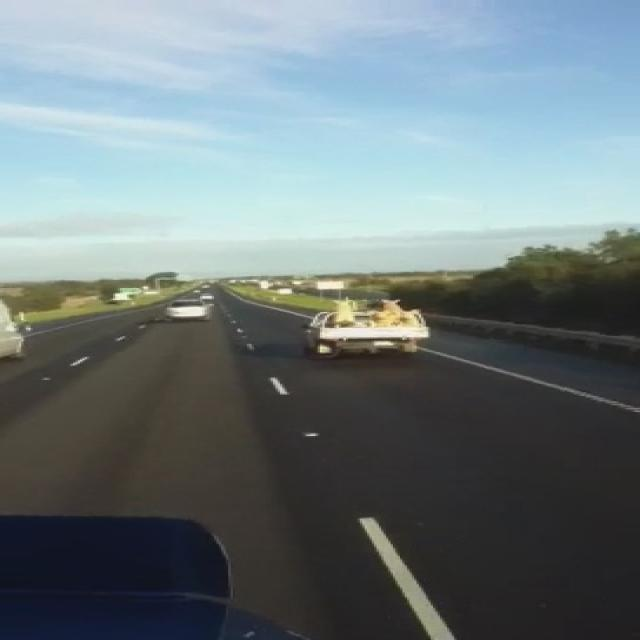Vehicle: (300, 310, 430, 357), (0, 295, 30, 360), (164, 299, 212, 321), (200, 293, 214, 300), (202, 284, 211, 289), (192, 290, 202, 294)
